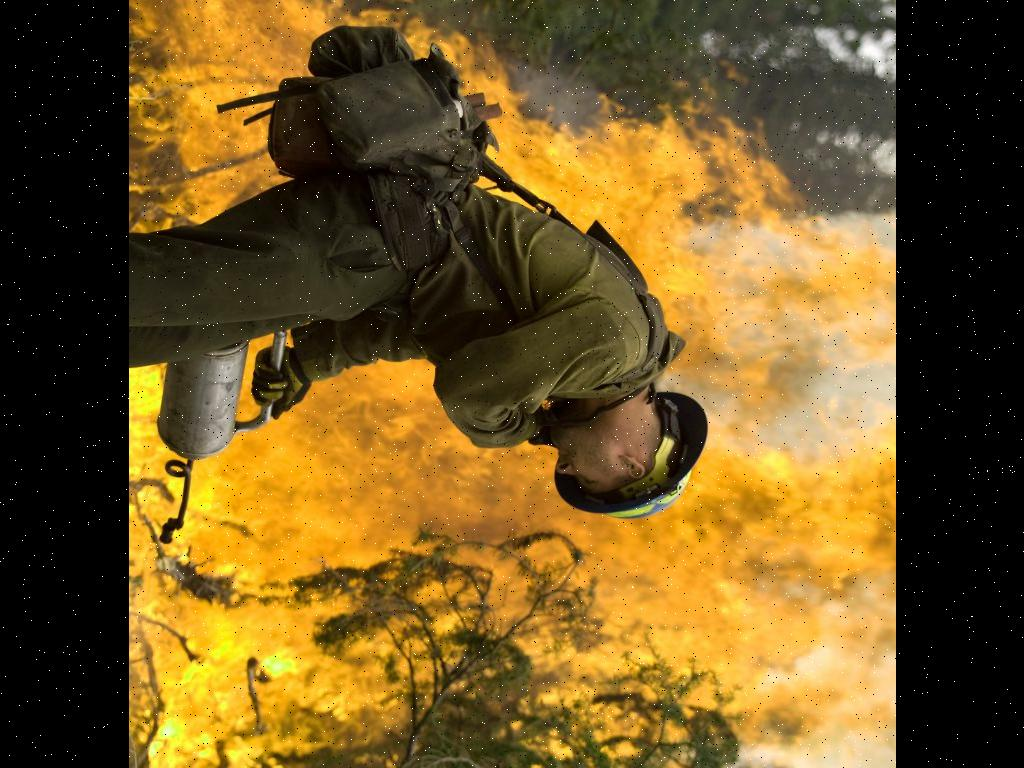fire: (128, 382, 446, 768), (448, 24, 882, 302), (446, 510, 896, 768), (128, 0, 279, 189)
